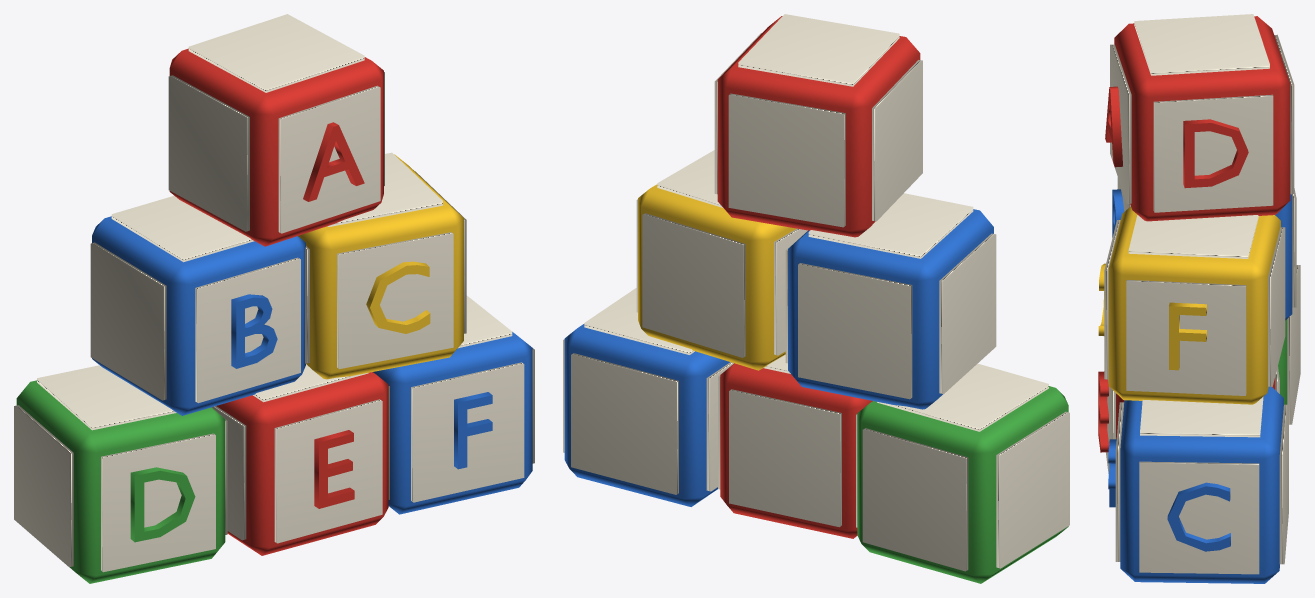
Rendered from toy_blocks.glb.
3 views of the same model, side by side, from view 1: azimuth 30°, elevation 25°; view 2: azimuth 150°, elevation 25°; view 3: azimuth 270°, elevation 25° (orthographic). The views are drawn at different scales.
Parts seen in each view (by area): view 1: model; view 2: model; view 3: model.
Boxes of the visible parts, x1,y1,x2,y2 form: model: (14, 14, 534, 583); model: (563, 14, 1069, 583); model: (1098, 14, 1300, 583).
Bounding box in the file's own units: 0.2106 × 0.199 × 0.0825.
